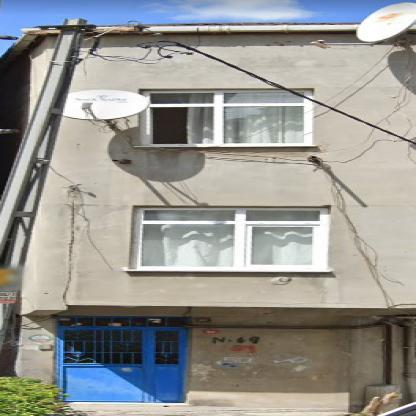door: (61, 328, 184, 402)
window: (141, 209, 323, 267), (146, 92, 308, 145), (63, 318, 186, 326)
